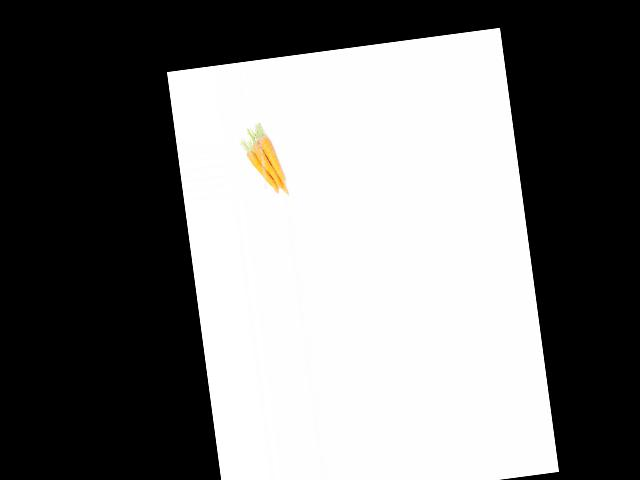carrot: (255, 130, 291, 190)
